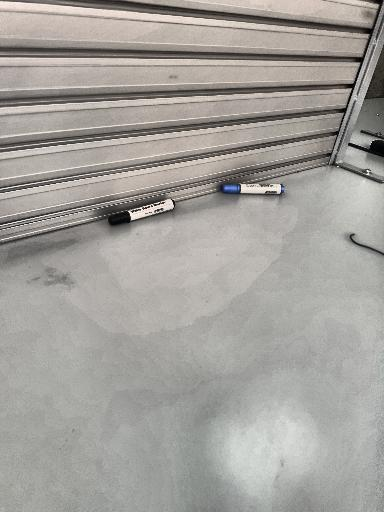marcador azul: (221, 184, 285, 195)
marcador negro: (108, 199, 175, 226)
